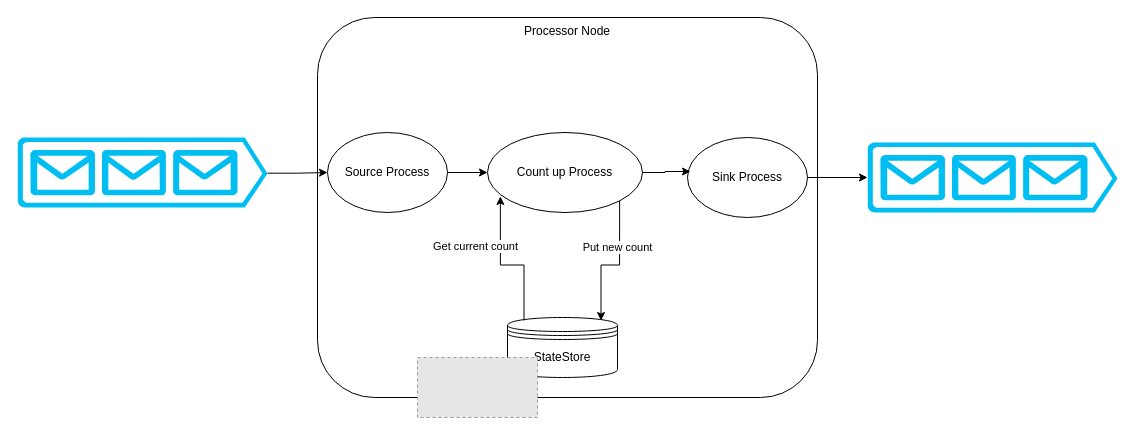
The diagram is 1134 pixels wide and 435 high, and some of its shapes have lost their labels. Grey dashed boxes stand in for pictures. The shapes that lost their labels are listed below. From the top down, each one's centre as x and y in pixels, then its label:
At [142,172]: "Event topics (user_id key)".
At [992,177]: "Event Counter topic (user_id key)".
